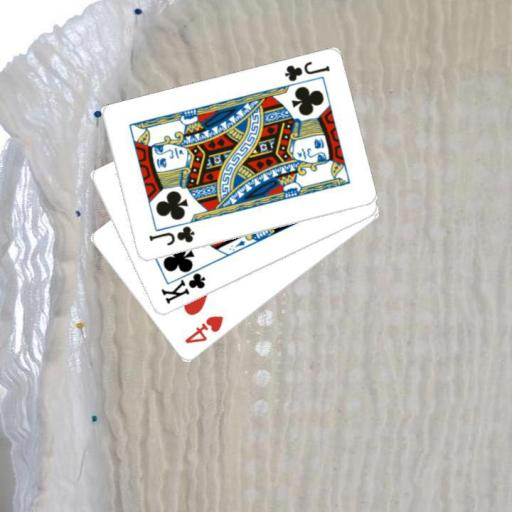4H: (181, 313, 225, 346)
JC: (281, 58, 331, 84), (145, 223, 196, 248)
KC: (157, 262, 207, 306)
